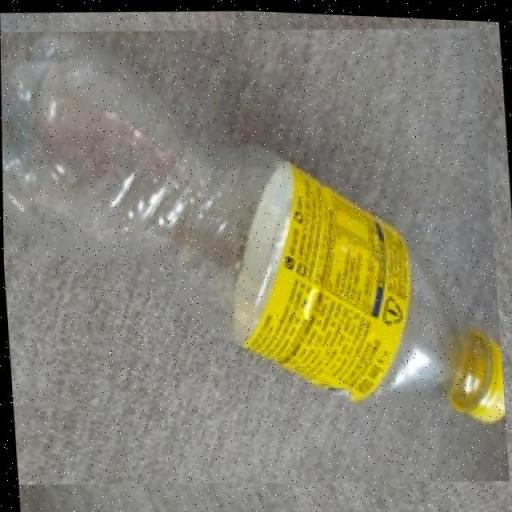plastic: (0, 32, 504, 421)
